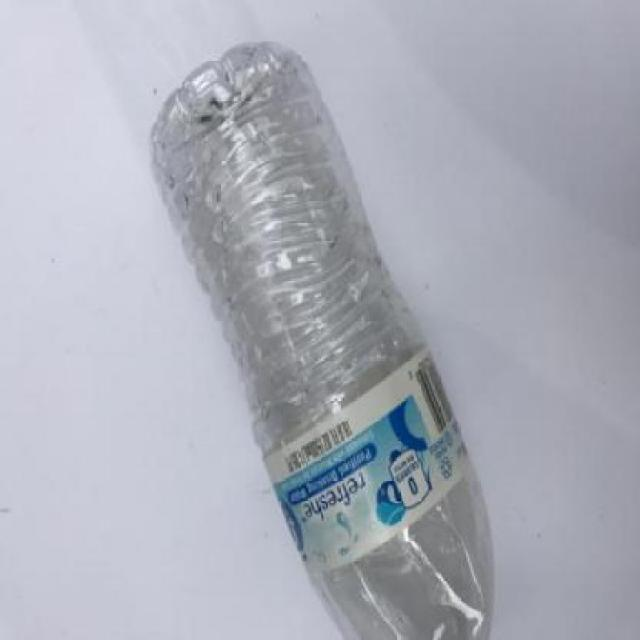garbage: (140, 20, 516, 638)
